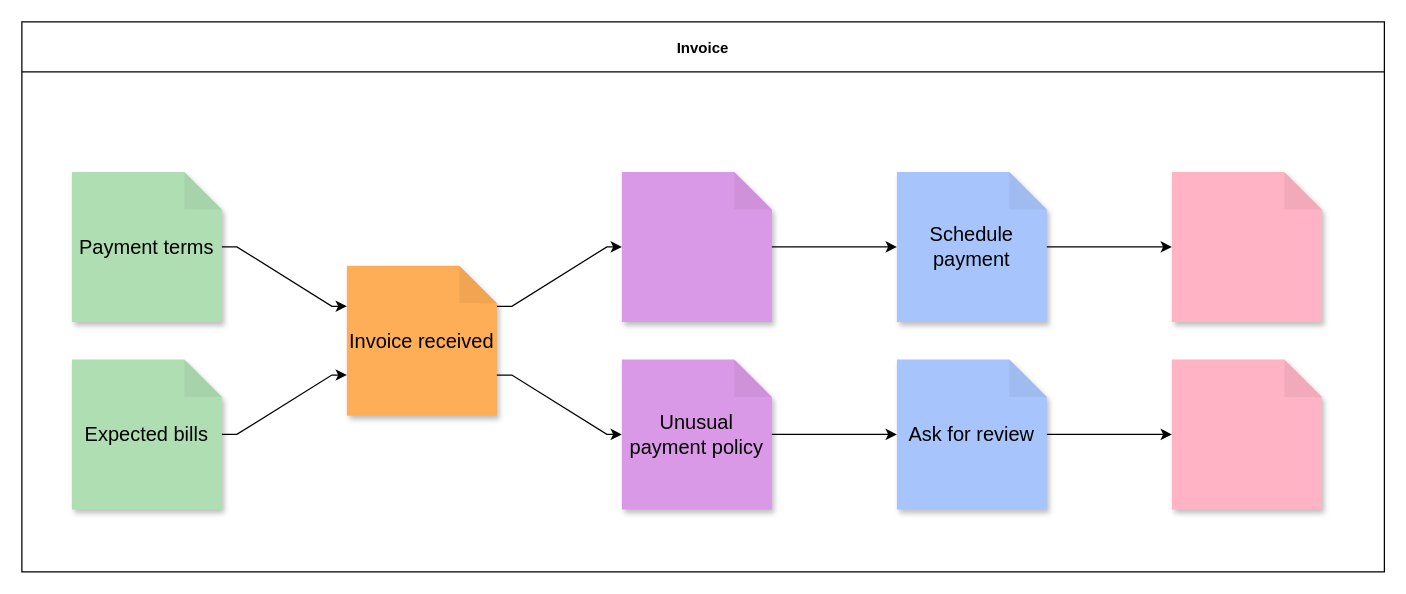
Some shapes in this 1406 by 594 pixel diagram are drawn without their labels. Here are the shapes that lost their labels. From the top down, the centre of each, then its label:
At (x=697, y=248): "Recurring payment policy".
At (x=1247, y=248): "Payment system".
At (x=1247, y=436): "Email".
